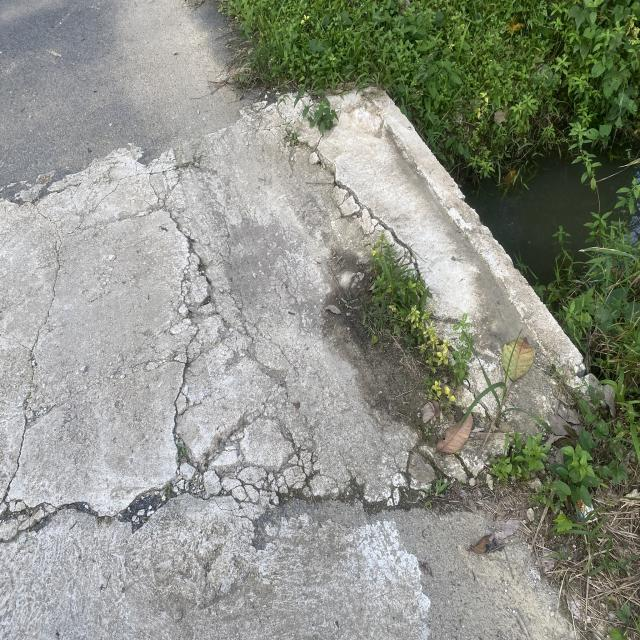Pothole: (102, 203, 248, 522), (268, 113, 437, 344)
